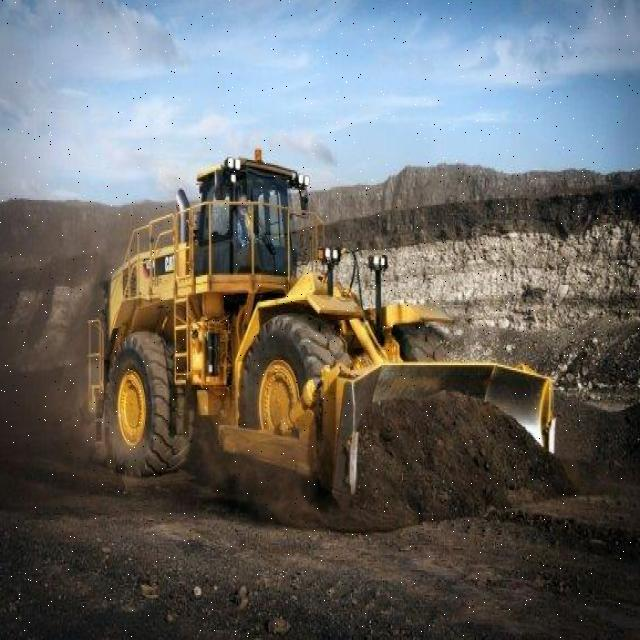Bulldozer: (80, 116, 568, 542)
